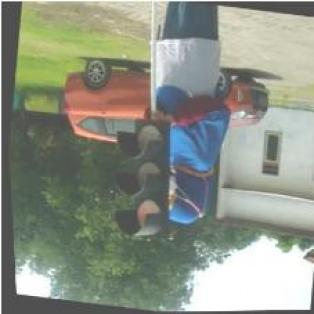Semaforo Rojo: (100, 115, 184, 243)
